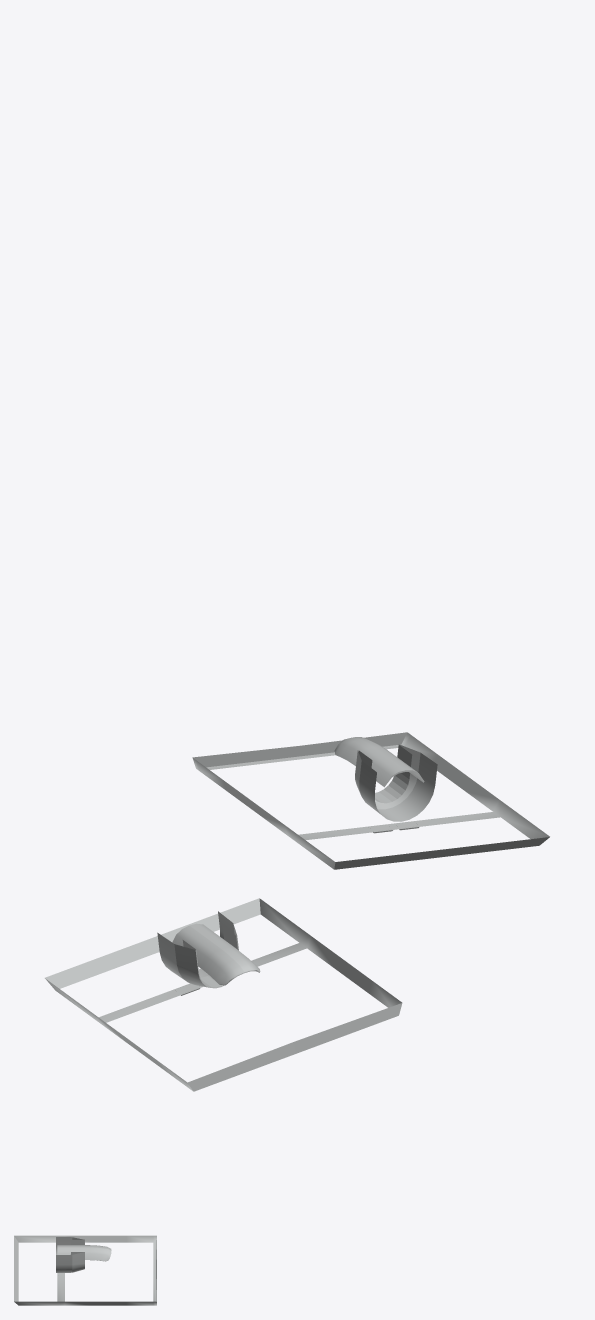
File: MeshFridgeDoorE4_1_GeomSubset_2.obj
3 views of the same model, one above another, from view 1: azimuth 30°, elevation 25°; view 2: azimuth 210°, elevation 25°; view 3: azimuth 270°, elevation 25° (orthographic). The views are drawn at different scales.
Parts seen in each view (by area): view 1: MeshFridgeDoorE4_1_GeomSubset_2; view 2: MeshFridgeDoorE4_1_GeomSubset_2; view 3: MeshFridgeDoorE4_1_GeomSubset_2.
Boxes of the visible parts, x1,y1,x2,y2 form: MeshFridgeDoorE4_1_GeomSubset_2: [192, 732, 549, 869]; MeshFridgeDoorE4_1_GeomSubset_2: [45, 898, 402, 1091]; MeshFridgeDoorE4_1_GeomSubset_2: [14, 1235, 156, 1305].
Bounding box in the file's own units: 0.3264 × 0.4558 × 1.16.
